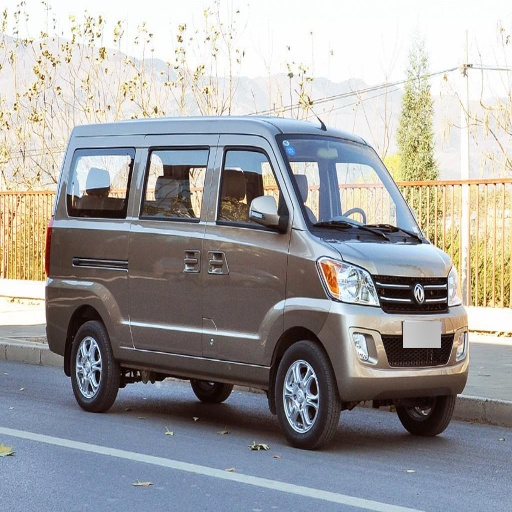front_bumper: (322, 274, 469, 398)
front_right_door: (201, 137, 293, 364)
front_right_light: (321, 259, 377, 305)
